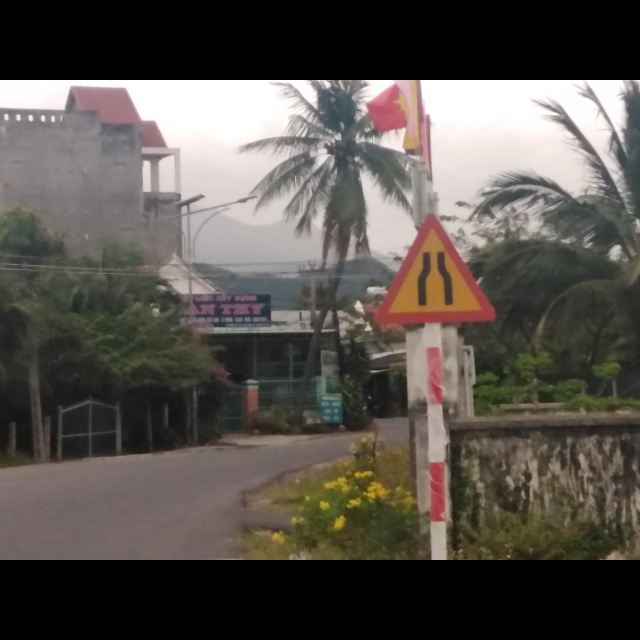Đường bị hẹp cả hai bên: (373, 212, 497, 326)
